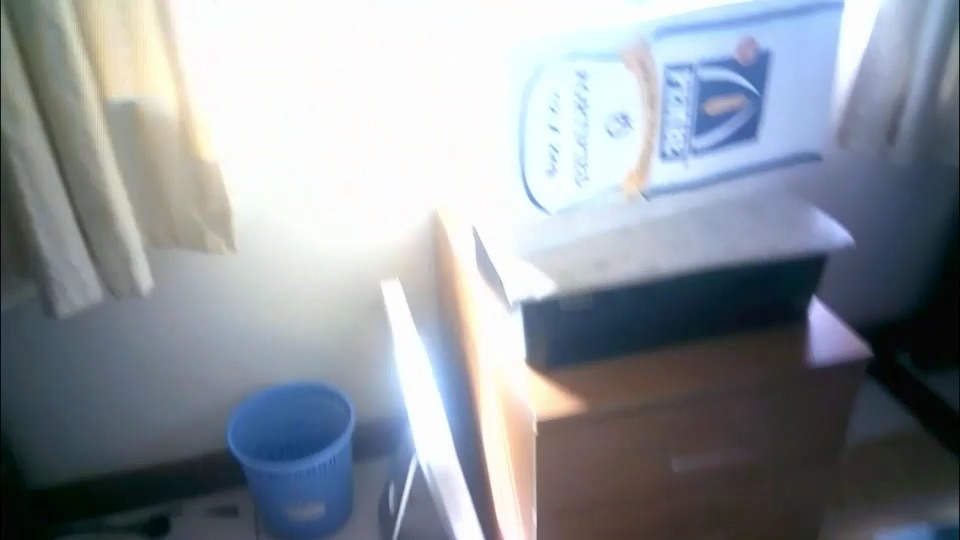wheat_flour_blue_label: (494, 2, 831, 243)
